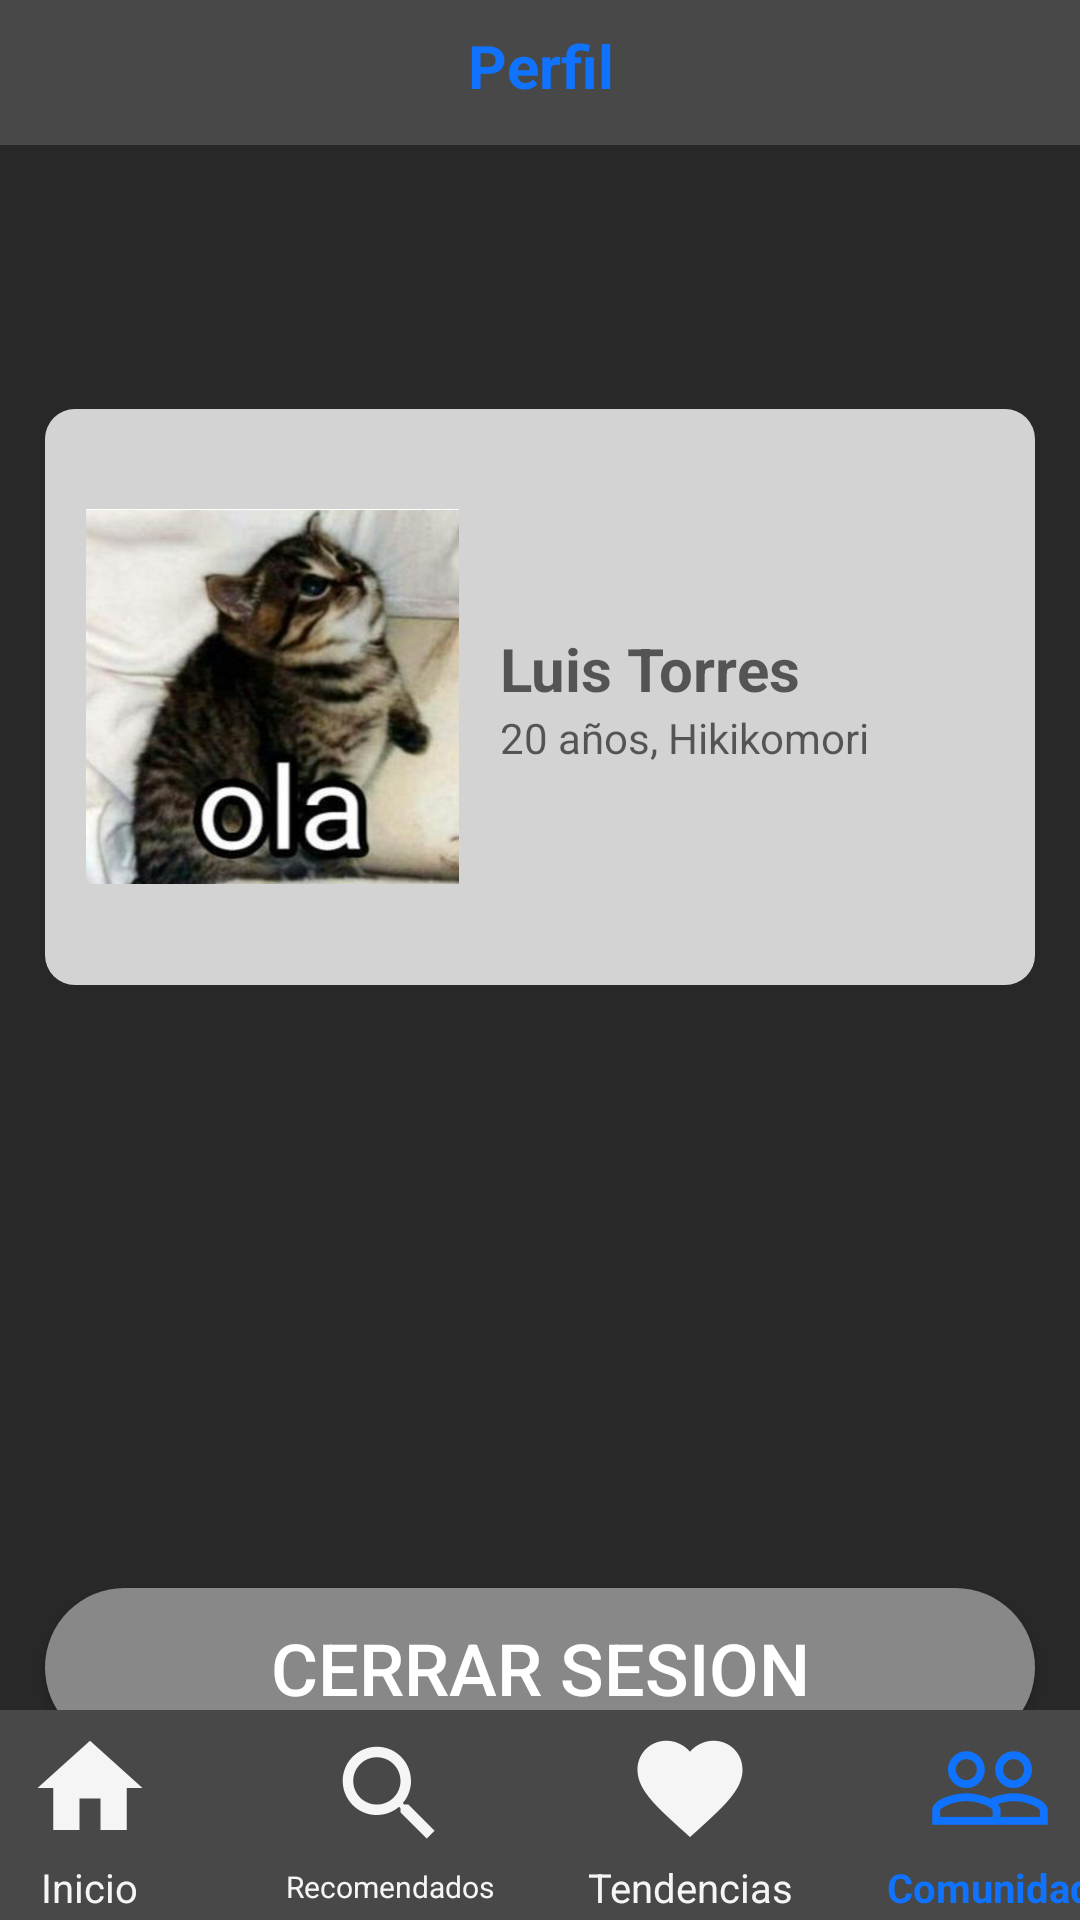

Where to tap for icons on this 1080*1920 app screen, as (x=x, y=y):
search: (x=388, y=1792)
